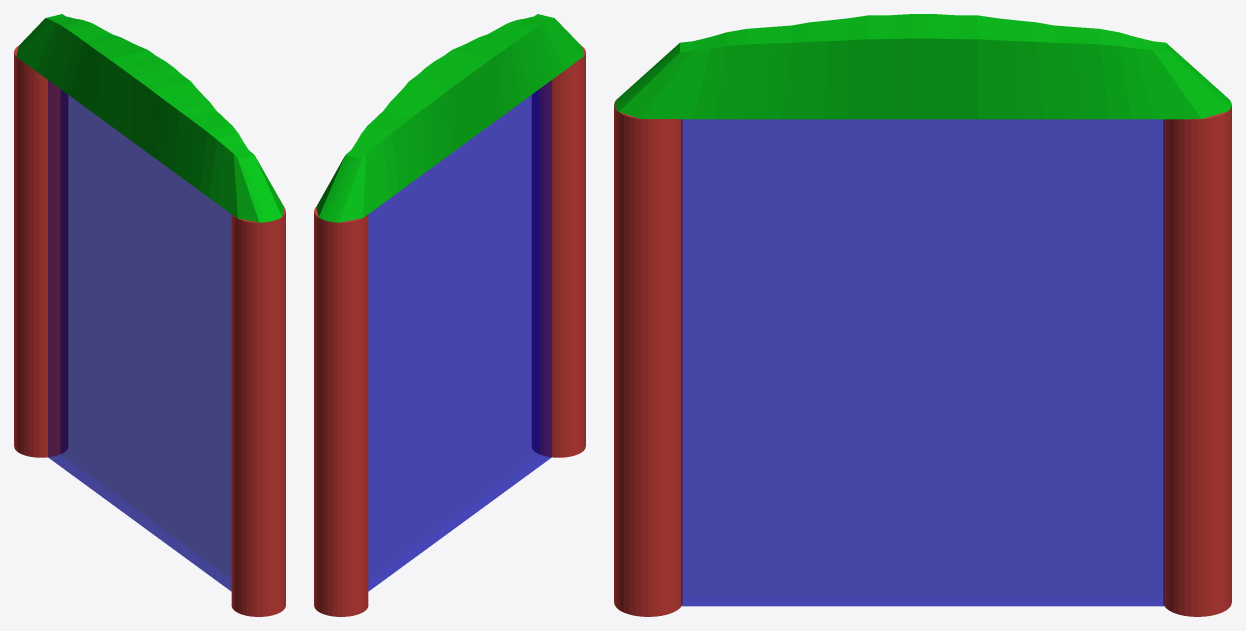
The model's file is Proper Goal.fbx.
3 renders of one model, left to right at view 1: azimuth 30°, elevation 25°; view 2: azimuth 150°, elevation 25°; view 3: azimuth 270°, elevation 25°, orthographic. The views are drawn at different scales.
Parts seen in each view (by area): view 1: Cube, Cylinder.001, Cube.001, Cylinder; view 2: Cube, Cylinder, Cube.001, Cylinder.001; view 3: Cube, Cube.001, Cylinder, Cylinder.001.
Part boxes in pixels (left/top/right/bottom): Cube: left=48, top=80, right=231, bottom=591; Cylinder.001: left=231, top=208, right=285, bottom=616; Cube.001: left=16, top=14, right=284, bottom=222; Cylinder: left=14, top=46, right=67, bottom=457; Cube: left=368, top=80, right=551, bottom=591; Cylinder: left=314, top=207, right=368, bottom=616; Cube.001: left=316, top=14, right=583, bottom=222; Cylinder.001: left=532, top=46, right=585, bottom=457; Cube: left=681, top=119, right=1164, bottom=606; Cube.001: left=614, top=14, right=1231, bottom=119; Cylinder: left=1163, top=102, right=1231, bottom=616; Cylinder.001: left=614, top=98, right=682, bottom=616.
Size of the model in its own units: 75 by 695 by 675.
